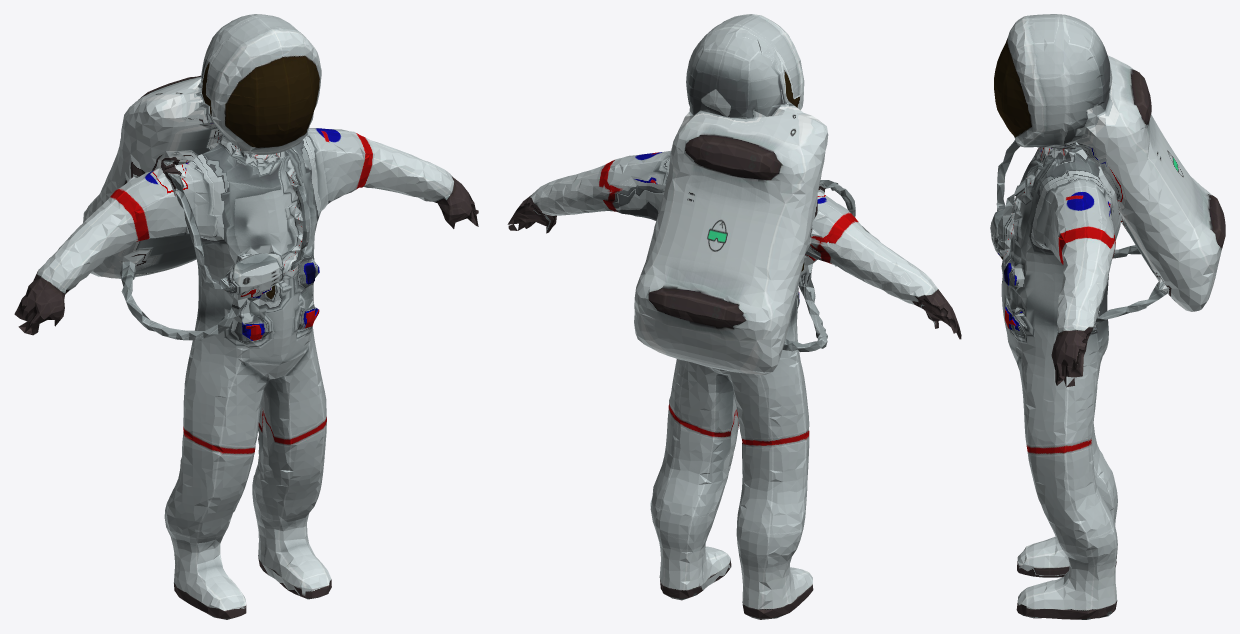
Rendered from astronauta.obj.
3 renders of one model, left to right at view 1: azimuth 30°, elevation 25°; view 2: azimuth 150°, elevation 25°; view 3: azimuth 270°, elevation 25°, orthographic. The views are drawn at different scales.
Bounding box in the file's own units: 1.66 × 2 × 0.7418.
Materials: 1 (1 with a texture image).
